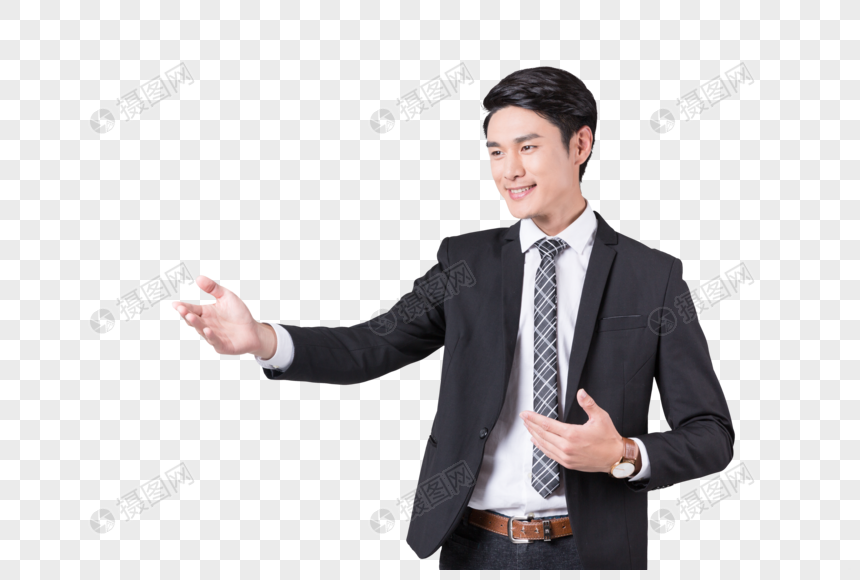no-phone: (518, 386, 619, 476), (169, 272, 263, 358)
